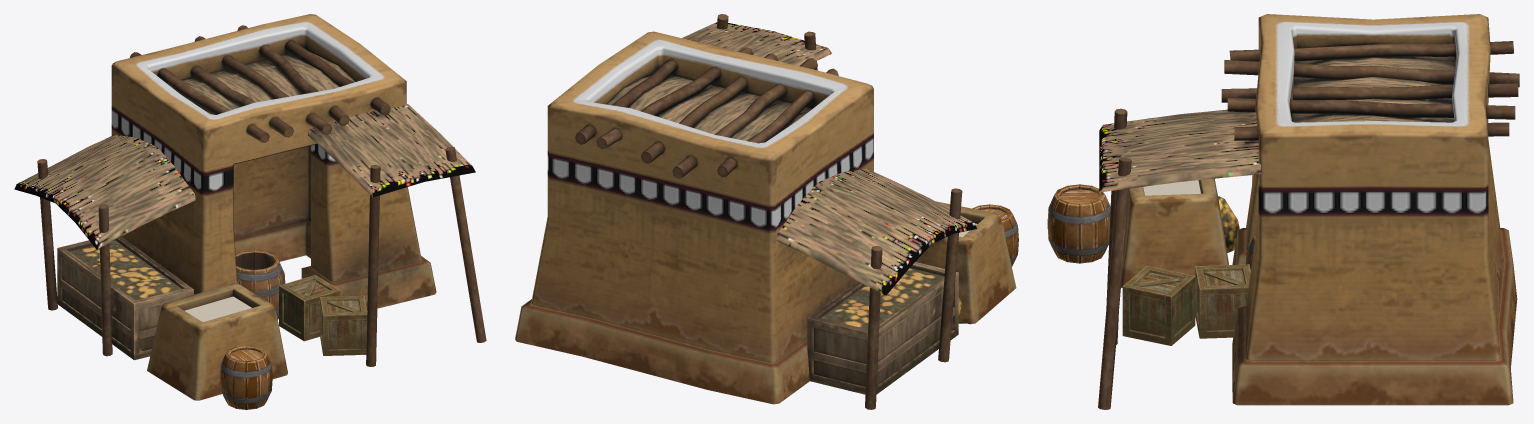
The model's file is 16-miningcamp.glb.
The picture shows the model from 3 angles, left to right: view 1: azimuth 30°, elevation 25°; view 2: azimuth 150°, elevation 25°; view 3: azimuth 270°, elevation 25°; orthographic projection. The views are drawn at different scales.
Size of the model in its own units: 4.34 by 2.83 by 4.47.
4 materials, 3 textured.
